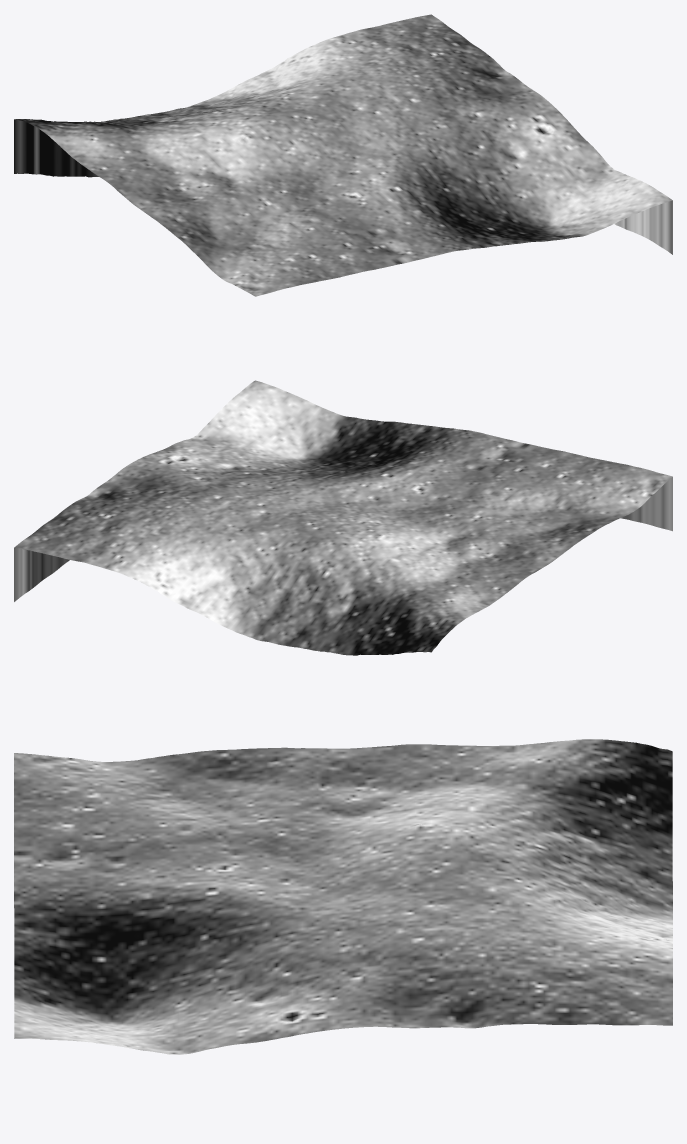
The picture shows the model from 3 angles, top to bottom: view 1: azimuth 30°, elevation 25°; view 2: azimuth 150°, elevation 25°; view 3: azimuth 270°, elevation 25°; orthographic projection. The views are drawn at different scales.
Size of the model in its own units: 639 by 148 by 639.
Materials: 1 (1 with a texture image).
